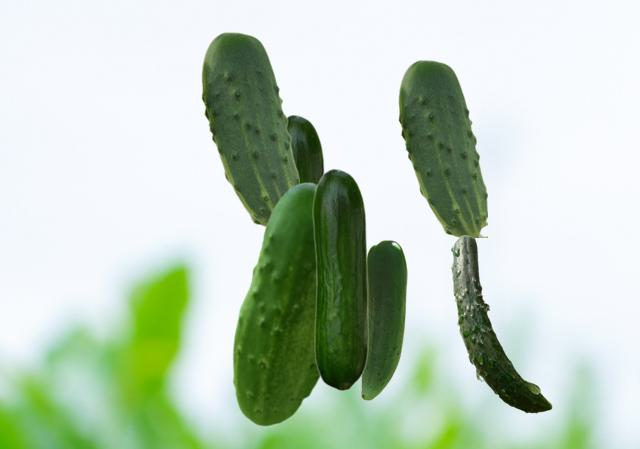cucumber: (232, 182, 320, 426), (201, 31, 298, 226), (450, 235, 551, 412), (398, 59, 486, 236), (312, 168, 368, 390), (361, 240, 406, 399), (287, 114, 325, 183)
